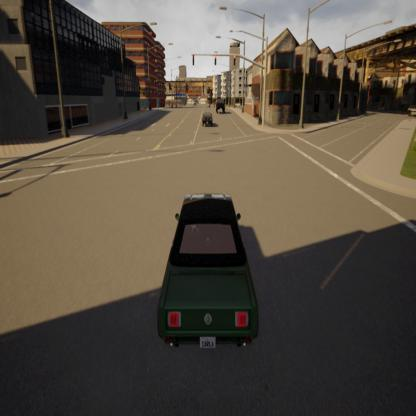Cars: (160, 177, 260, 354), (212, 91, 227, 115), (201, 111, 216, 128)
